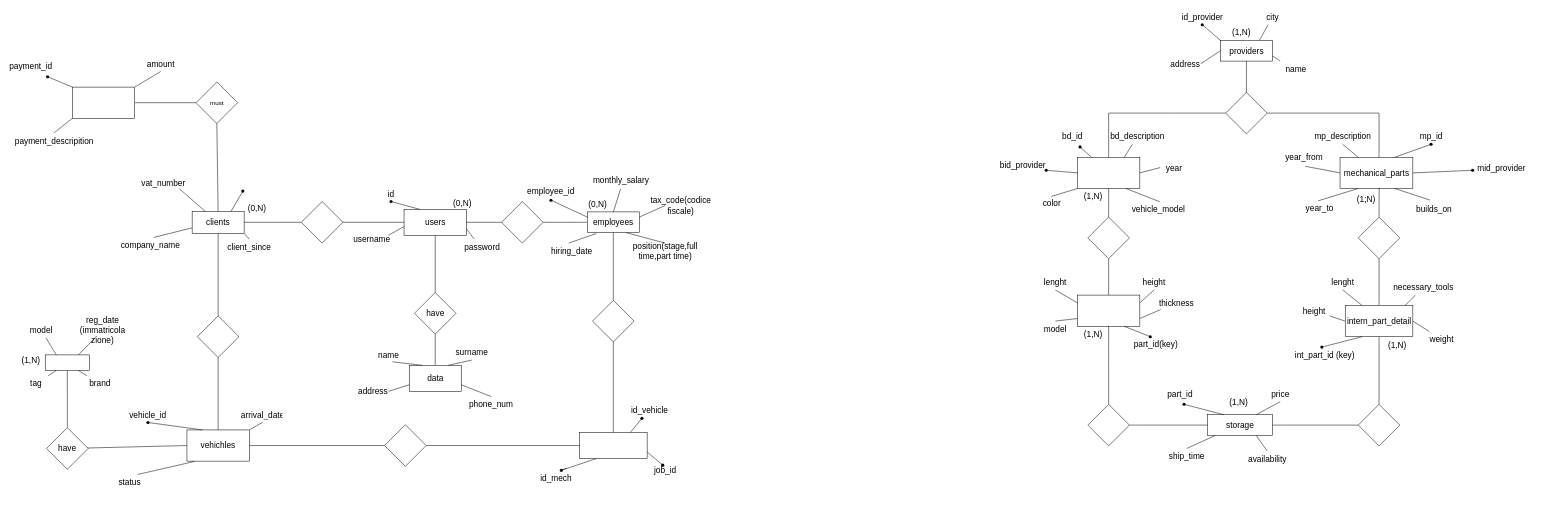
The diagram is 1542 pixels wide and 508 high, and some of its shapes have lost their labels. Each missing label, with the centre of its shape:
body_parts: (x=1108, y=172)
client_id: (x=242, y=190)
jobs: (x=613, y=445)
parts_detail: (x=1108, y=310)
payments: (x=103, y=102)
vehicle_data: (x=67, y=362)
work on: (x=405, y=445)
